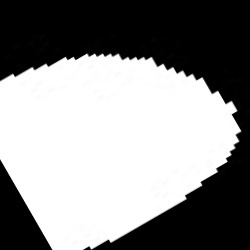spot: (1, 53, 241, 248)
